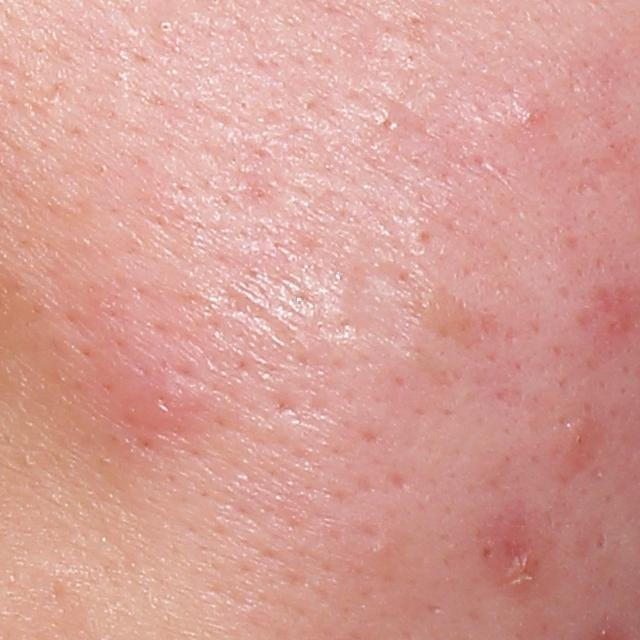atrophic_scar: (593, 528, 610, 551)
comedo: (369, 542, 394, 562), (409, 226, 433, 246), (158, 19, 173, 34)
